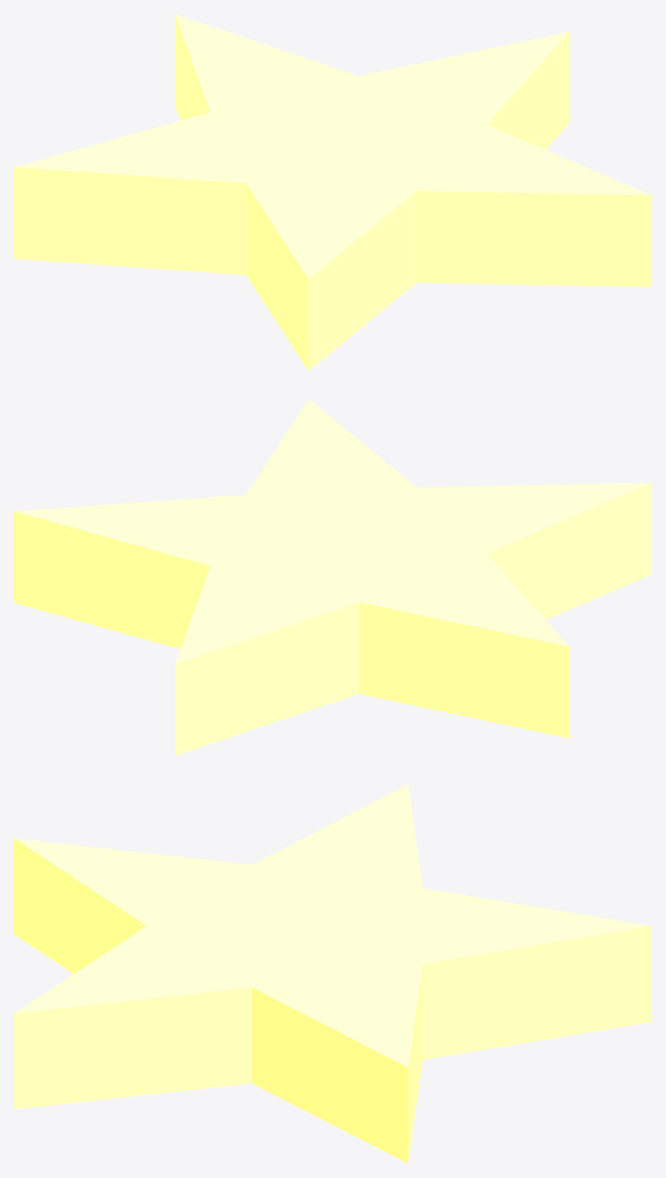
The model's file is star-trophy.glb.
3 views of the same model, one above another, from view 1: azimuth 30°, elevation 25°; view 2: azimuth 150°, elevation 25°; view 3: azimuth 270°, elevation 25° (orthographic). The views are drawn at different scales.
Visible parts, largest first — view 1: star-trophy; view 2: star-trophy; view 3: star-trophy.
Boxes of the visible parts, <box> form: star-trophy: <box>14,14,651,370</box>; star-trophy: <box>14,399,651,755</box>; star-trophy: <box>14,784,651,1163</box>.
Size of the model in its own units: 1.14 by 0.18 by 1.09.
